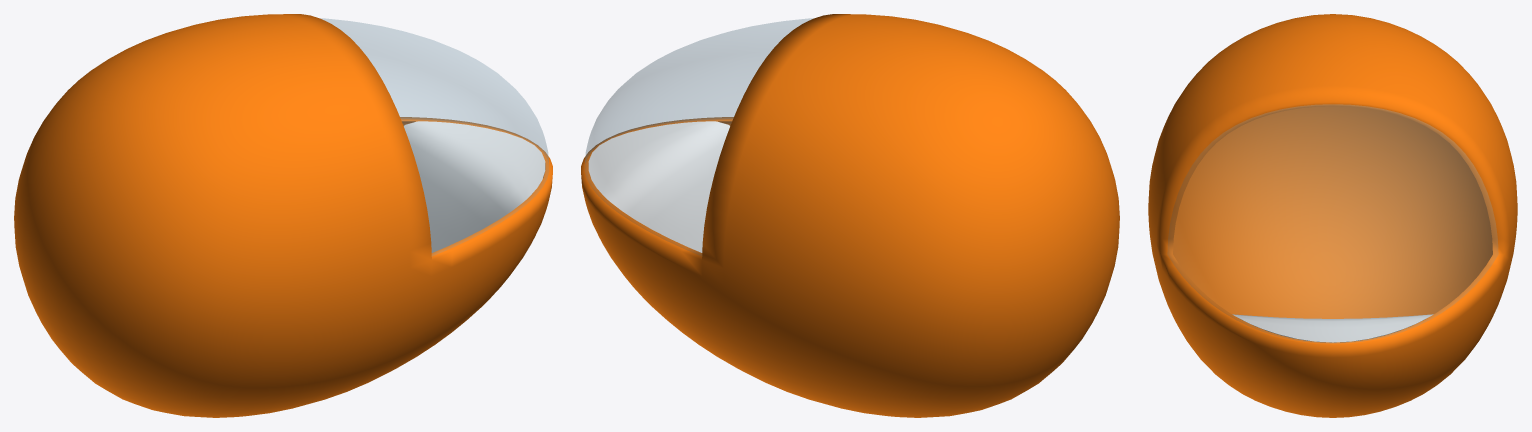
File: nave.glb
3 renders of one model, left to right at view 1: azimuth 30°, elevation 25°; view 2: azimuth 150°, elevation 25°; view 3: azimuth 270°, elevation 25°, orthographic. The views are drawn at different scales.
Parts seen in each view (by area): view 1: Cube.003; view 2: Cube.003; view 3: Cube.003.
Boxes of the visible parts, left/top/right/bottom form: Cube.003: left=14, top=14, right=552, bottom=417; Cube.003: left=581, top=14, right=1119, bottom=417; Cube.003: left=1148, top=14, right=1517, bottom=417.
Size of the model in its own units: 6.28 by 4.28 by 4.35.
3 materials, 1 textured.
